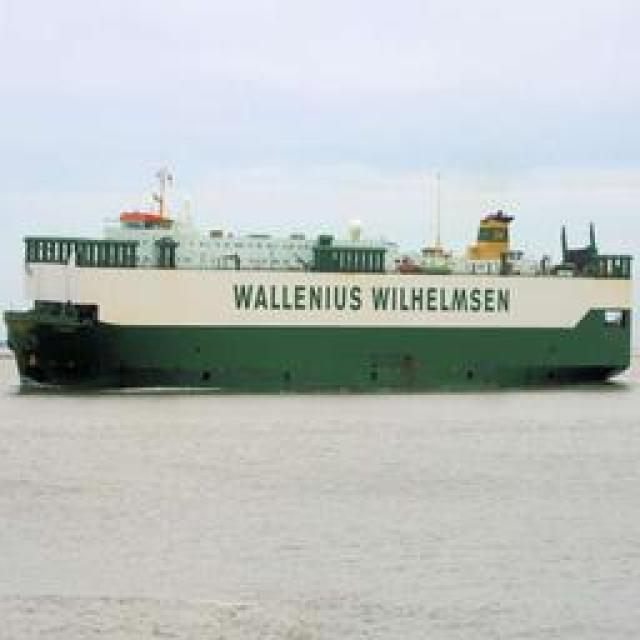Ship: (6, 195, 636, 400)
